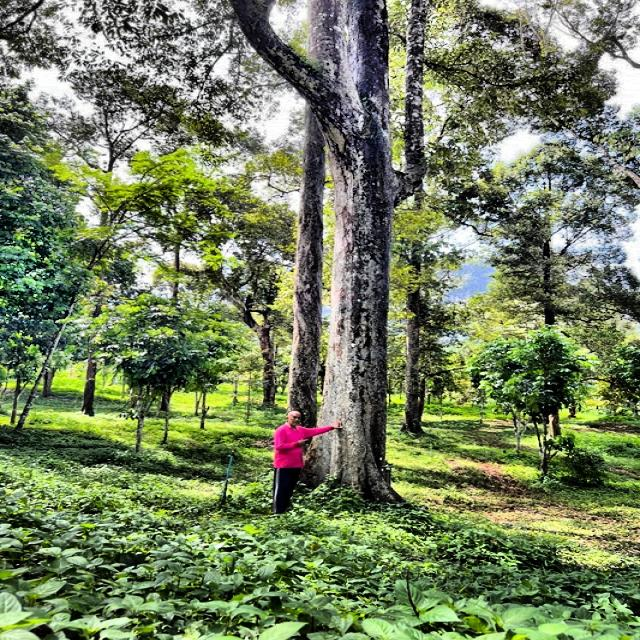arvore: (231, 0, 429, 523)
